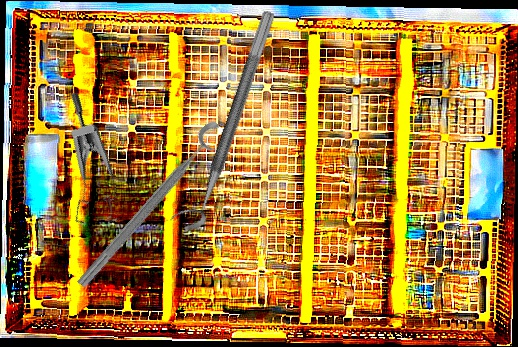Fixation Ring: (72, 118, 237, 300), (168, 3, 277, 237)
Speculum: (20, 90, 143, 239)
